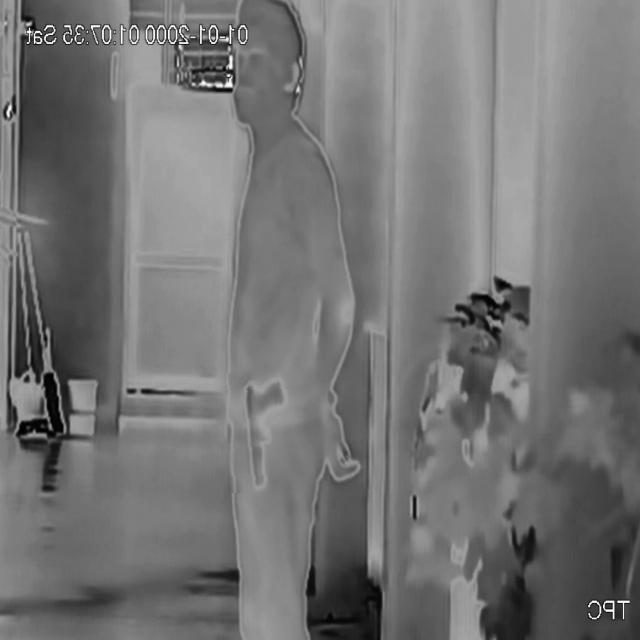Weapon: (227, 372, 301, 493)
